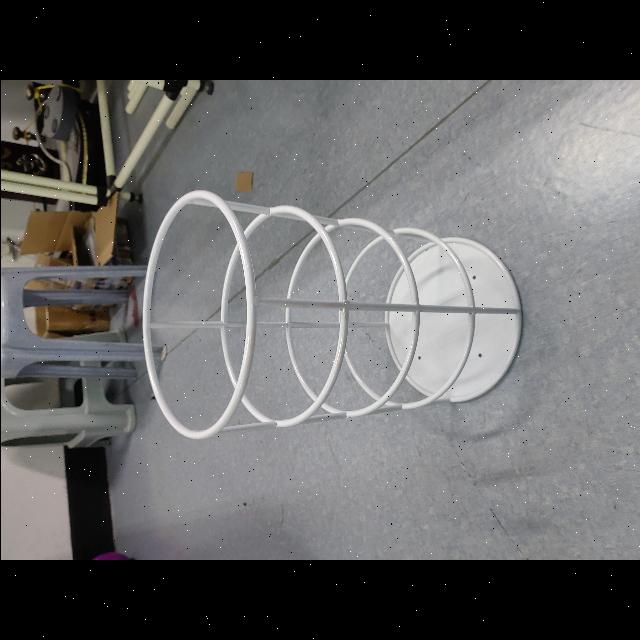S: (137, 186, 528, 448)
